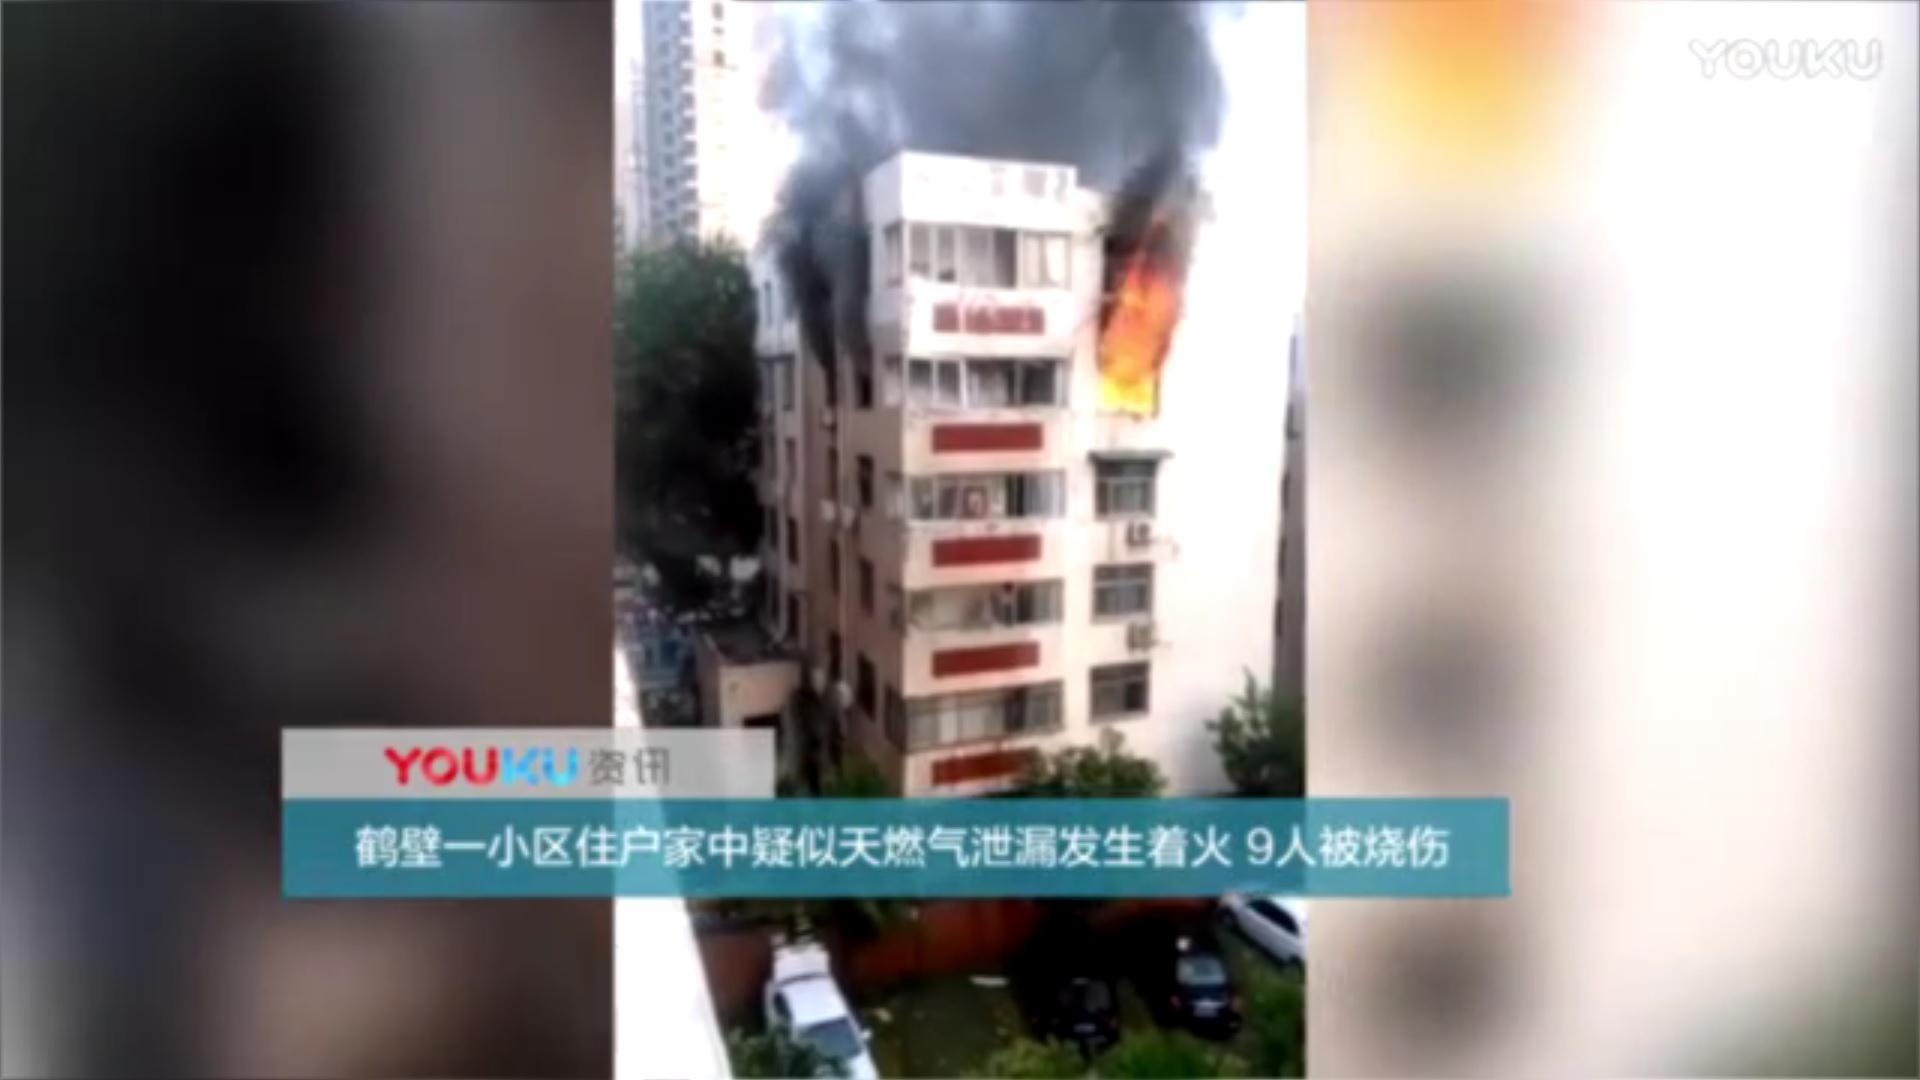fire: (1093, 262, 1171, 414)
